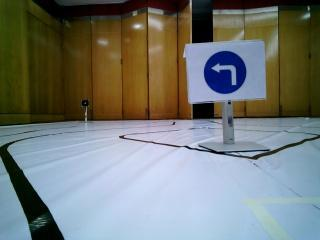left: (188, 46, 262, 98)
